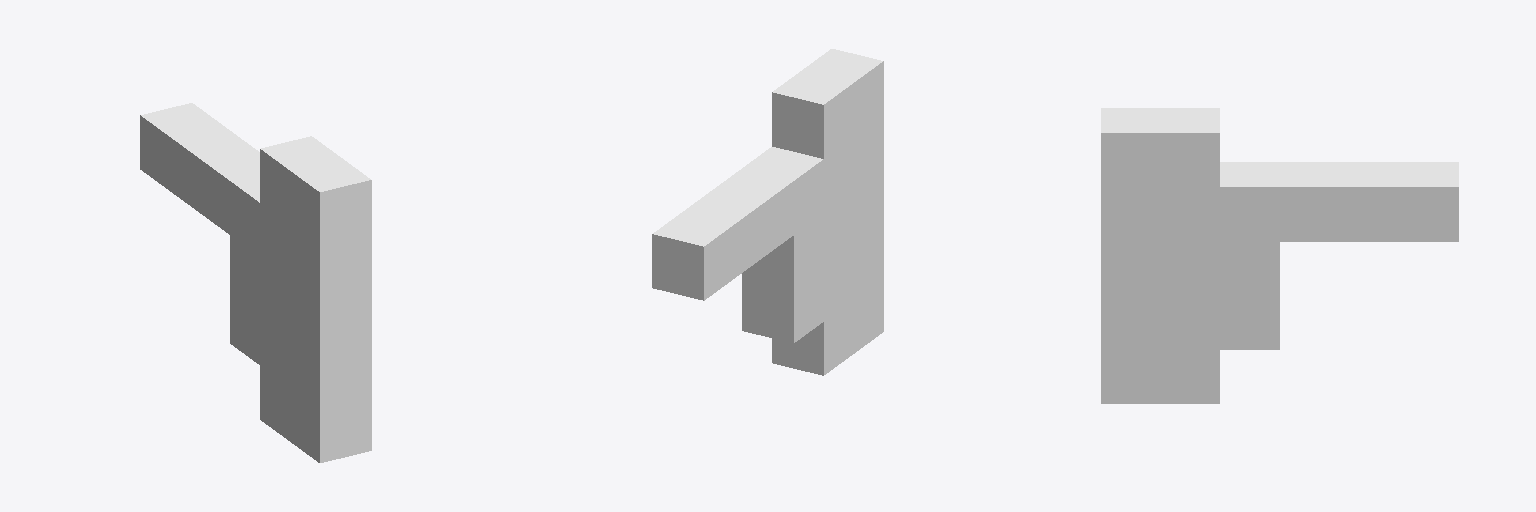
File: YellowHouseParts-8.obj
3 views of the same model, side by side, from view 1: azimuth 30°, elevation 25°; view 2: azimuth 150°, elevation 25°; view 3: azimuth 270°, elevation 25° (orthographic).
Visible parts, largest first — view 1: object 1; view 2: object 1; view 3: object 1.
Boxes of the visible parts, x1,y1,x2,y2 form: object 1: [140, 103, 371, 462]; object 1: [652, 49, 883, 375]; object 1: [1101, 108, 1458, 403].
Bounding box in the file's own units: 0.1 × 0.5 × 0.6.